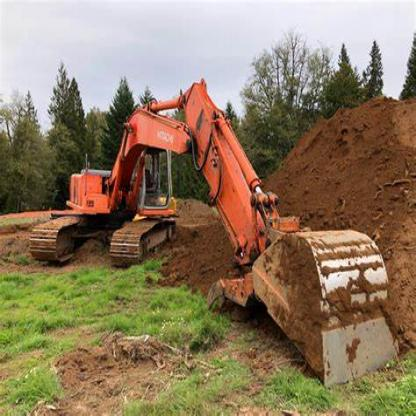excavator: (25, 71, 409, 392)
